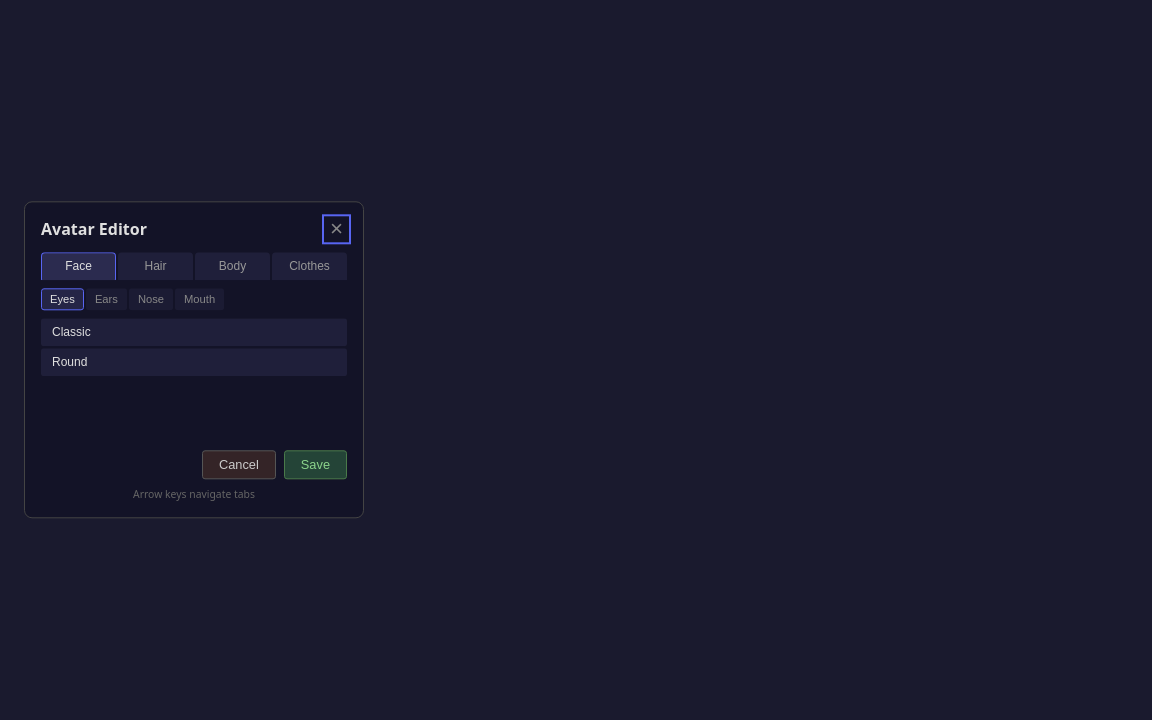
Test case: AvatarEditor › shows None option for wardrobe categories
Switch to Clothes tab, then hat sub-category
Click the tab "Clothes".
click(310, 267)  # box [272,253,347,281]
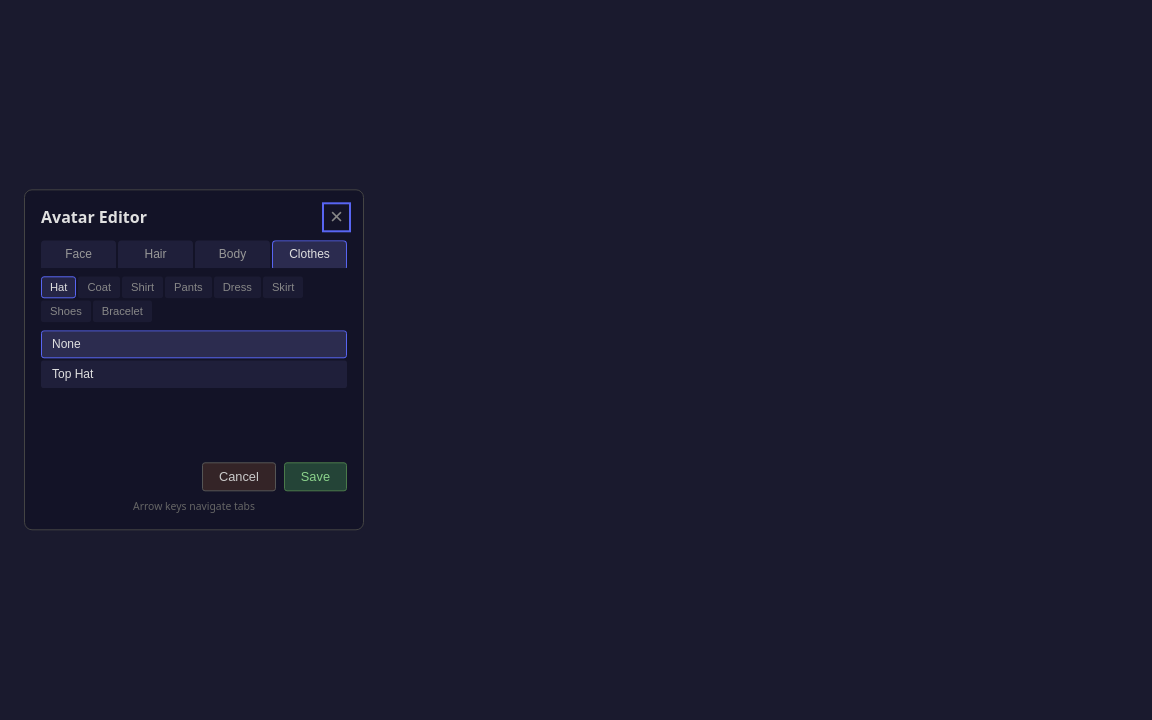
Now the option "None" is shown, box [41,331,347,359]
